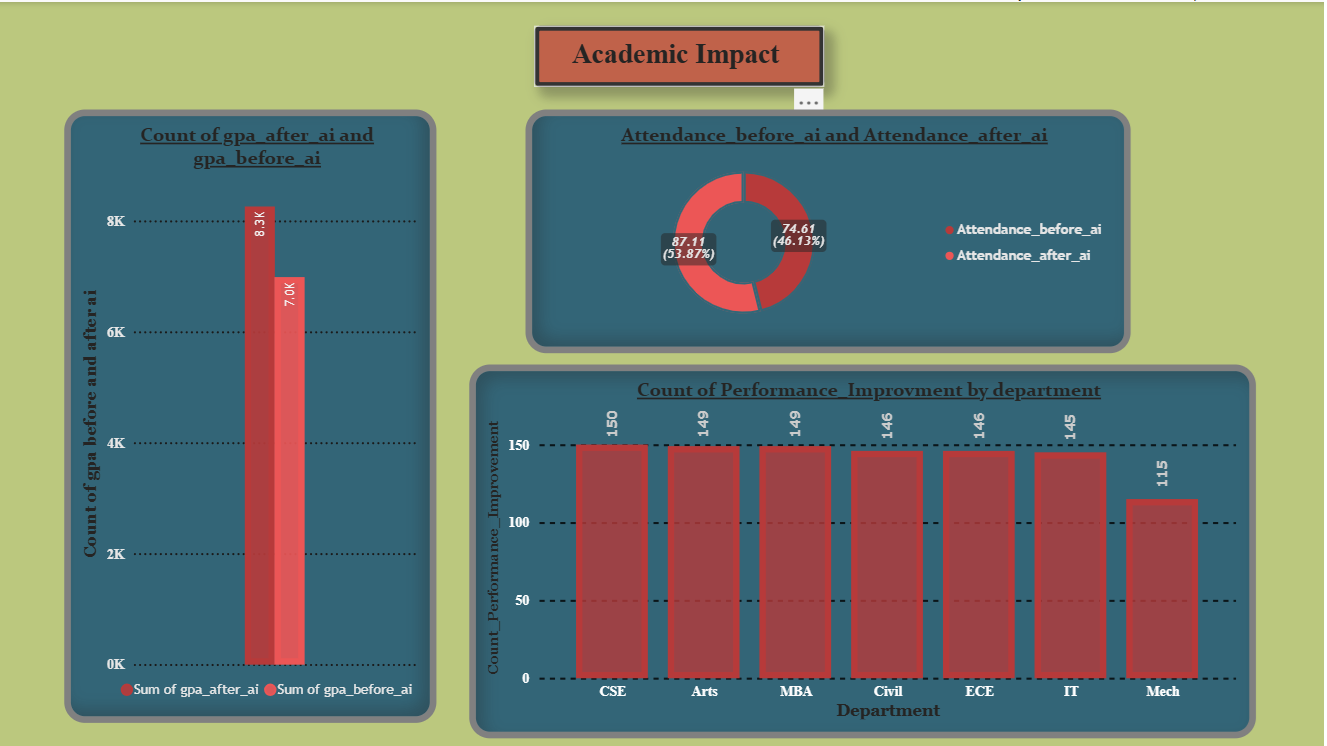

Layout of this report page (visuals, bound fields, positions):
{"tool":"powerbi","page":{"name":"Academic_Impact","canvas":[1280,720],"ordinal":1},"visuals":[{"type":"textbox","box":[517.6,22.9,279.9,59.1],"z":0},{"type":"clusteredColumnChart","title":"Count of gpa_after_ai and gpa_before_ai","fields":{"Y":["Sum(performance.gpa_after_ai)","Sum(performance.gpa_before_ai)"]},"box":[63.9,103.8,359.5,592.4],"z":1000},{"type":"donutChart","fields":{"Y":["Avg(performance.attendance_before_ai)","Avg(performance.attendance_after_ai)"]},"box":[509.1,103.8,583.9,235.3],"z":2000},{"type":"clusteredColumnChart","fields":{"Category":["students.department"],"Y":["CountNonNull(performance.Performance_Improvment)"]},"box":[454.8,349.9,758.9,360.7],"z":3000}]}

Visuals, with their boxes in screenshot pixels (x1, y1, x2, y2), scaled from the page's 1280x720 canvas onto the 1327x746 screenshot:
textbox: bbox(537, 24, 827, 85)
"Count of gpa_after_ai and gpa_before_ai" clusteredColumnChart: bbox(66, 108, 439, 721)
donutChart - Avg(performance.attendance_before_ai) x Avg(performance.attendance_after_ai): bbox(528, 108, 1133, 351)
clusteredColumnChart - students.department x CountNonNull(performance.Performance_Improvment): bbox(471, 363, 1258, 736)
